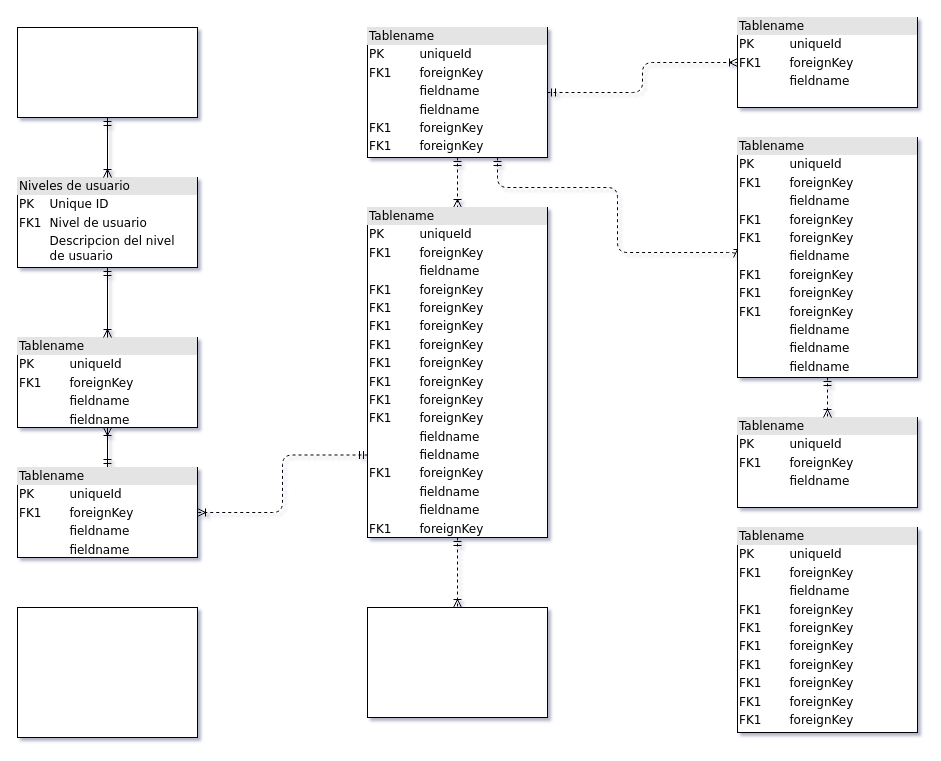
This 941x761 diagram has some shape labels left out. Each missing label, with the box of its shape:
Tablename PK uniqueId FK1 foreignKey fieldname fieldname fieldname fieldname: (16, 606, 198, 738)
Tablename PK uniqueId FK1 foreignKey fieldname fieldname FK1 foreignKey: (366, 606, 548, 718)
UserLogin PK uniqueId FK1 Nivel de usuario ID UserName Password: (16, 26, 198, 118)
